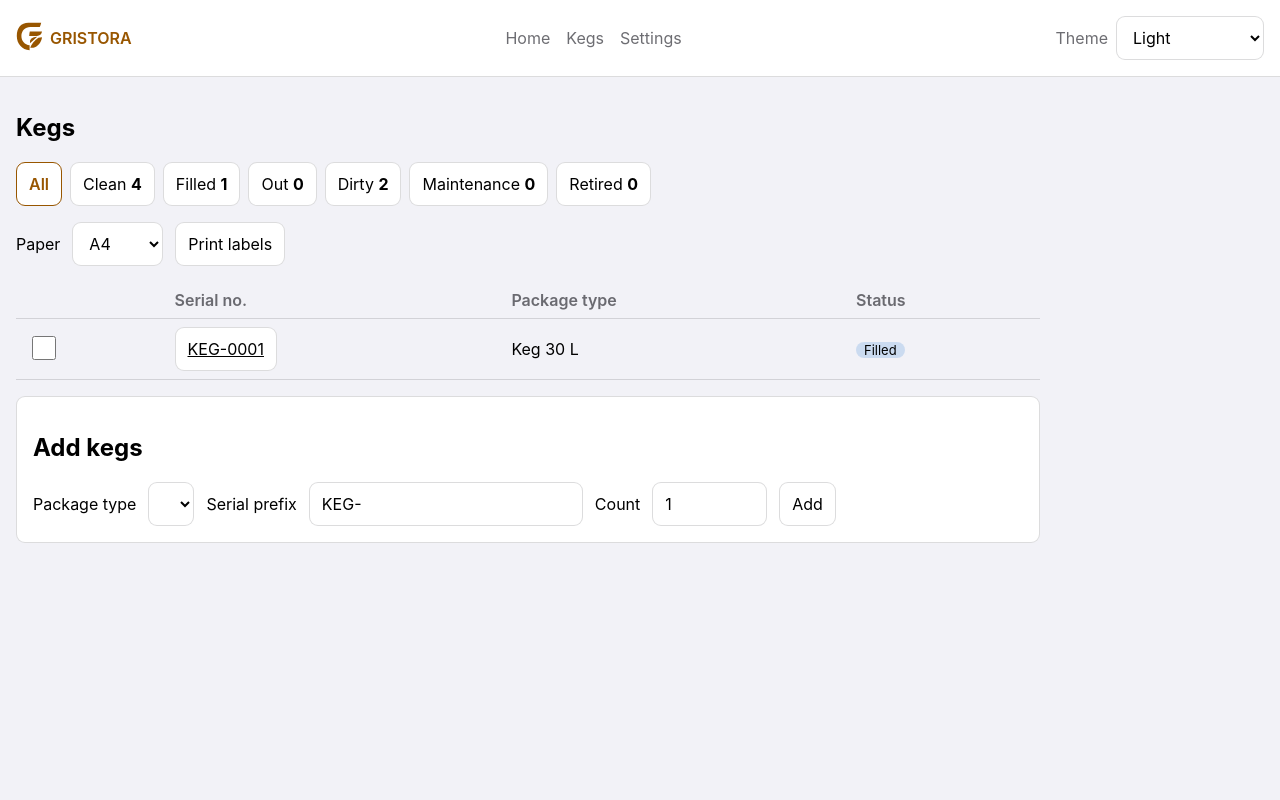
Scenario: containers screen › hides manage actions after the API answers 403 forbidden
Click the checkbox named "KEG-0001" at {"x": 44, "y": 348}, box [32, 336, 56, 360]
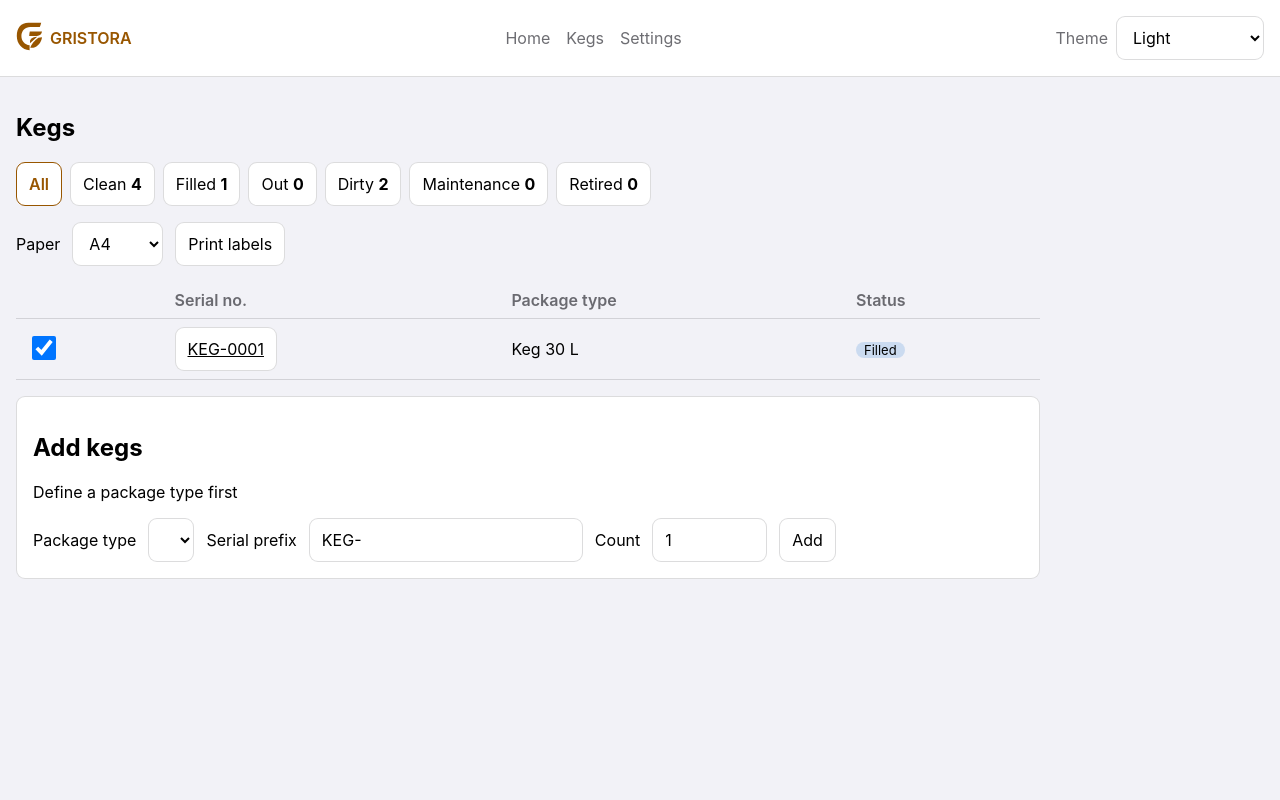
Click the button "Print labels" at {"x": 230, "y": 244}, box [175, 222, 285, 266]
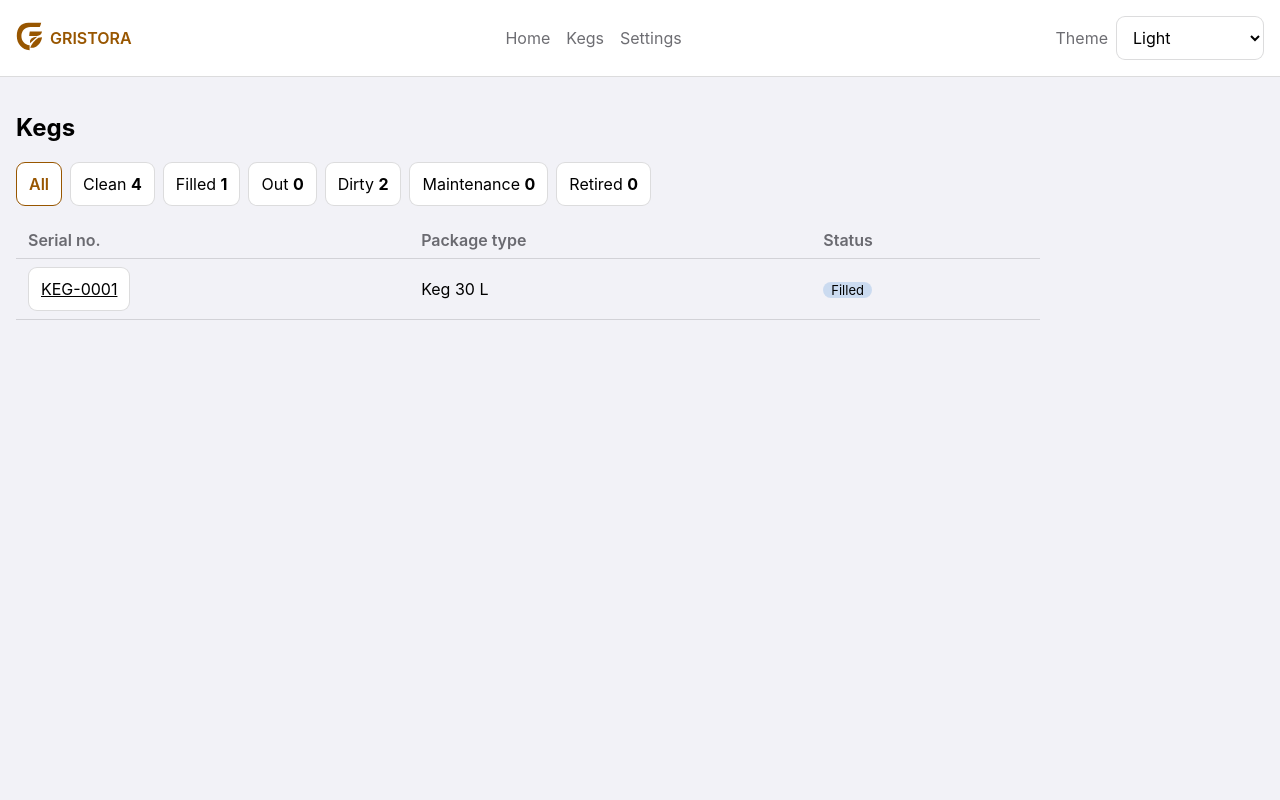
Expected: the button "Print labels" is gone
Expected: the heading "Add kegs" is gone
